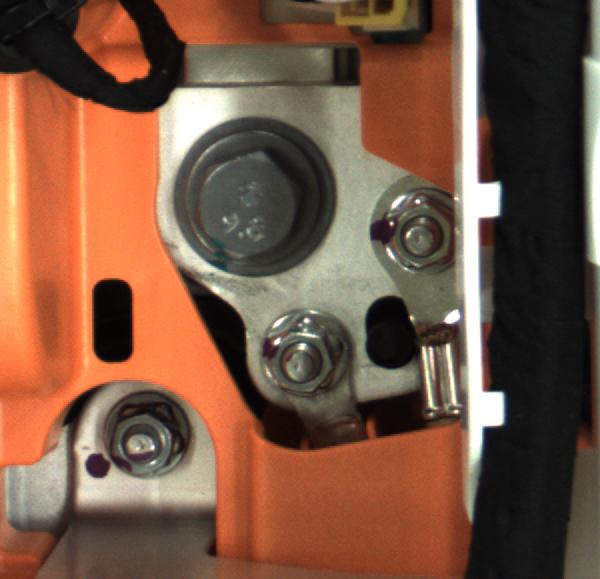nut_b: (188, 131, 321, 269)
screw_s: (98, 394, 193, 484), (252, 314, 346, 397), (381, 190, 463, 279)
